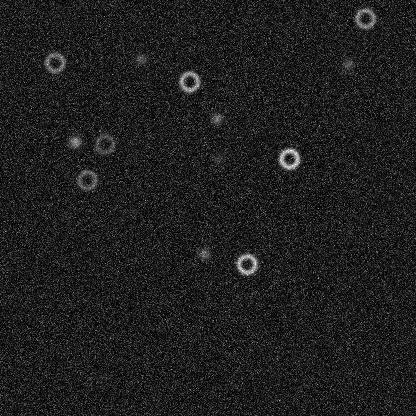Ring: (177, 69, 201, 93), (277, 146, 301, 170), (234, 252, 258, 276), (42, 50, 66, 74), (353, 6, 377, 30), (92, 131, 116, 155), (75, 167, 99, 191)
Spot: (208, 110, 224, 126), (132, 50, 148, 66), (196, 245, 212, 261), (210, 150, 226, 166), (66, 133, 82, 149), (339, 55, 355, 71)
